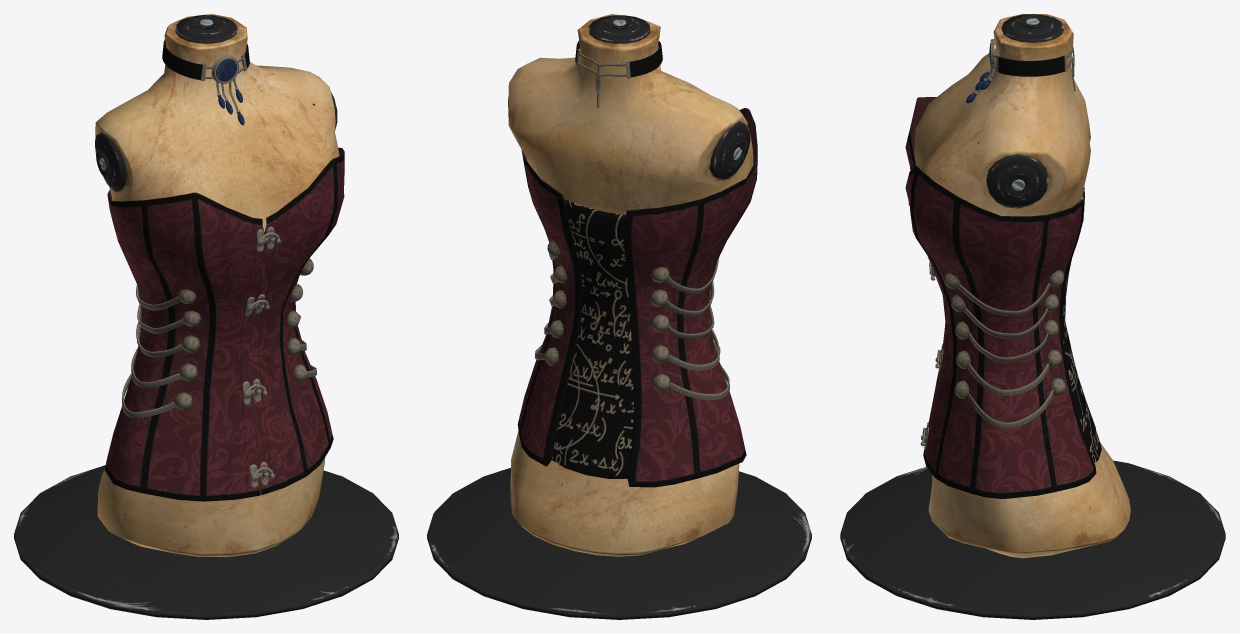
File: khr_Corset.glb
The picture shows the model from 3 angles, left to right: view 1: azimuth 30°, elevation 25°; view 2: azimuth 150°, elevation 25°; view 3: azimuth 270°, elevation 25°; orthographic projection.
Parts seen in each view (by area): view 1: Corset; view 2: Corset; view 3: Corset.
Part boxes in pixels (<box>): Corset: <box>14,14,398,619</box>; Corset: <box>427,14,811,619</box>; Corset: <box>840,14,1225,619</box>.
Bounding box in the file's own units: 0.039 × 0.0578 × 0.039.
1 material, 1 textured.
